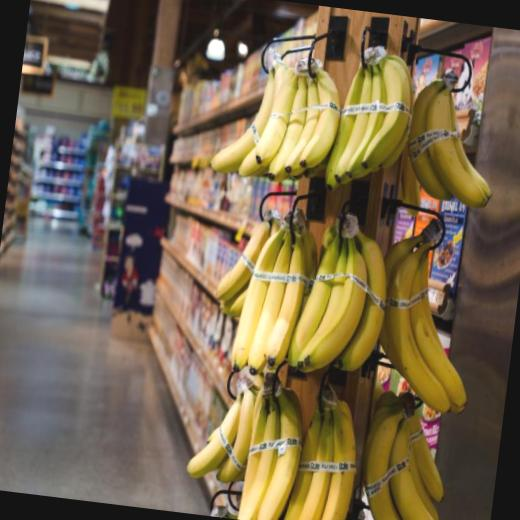Banana: (202, 199, 486, 421), (207, 23, 506, 208), (181, 360, 459, 520), (354, 404, 421, 520)
